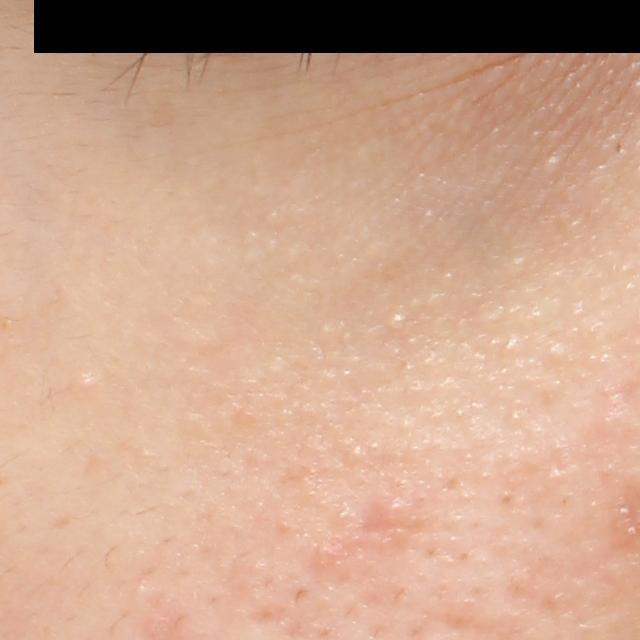comedo: (75, 372, 93, 392)
